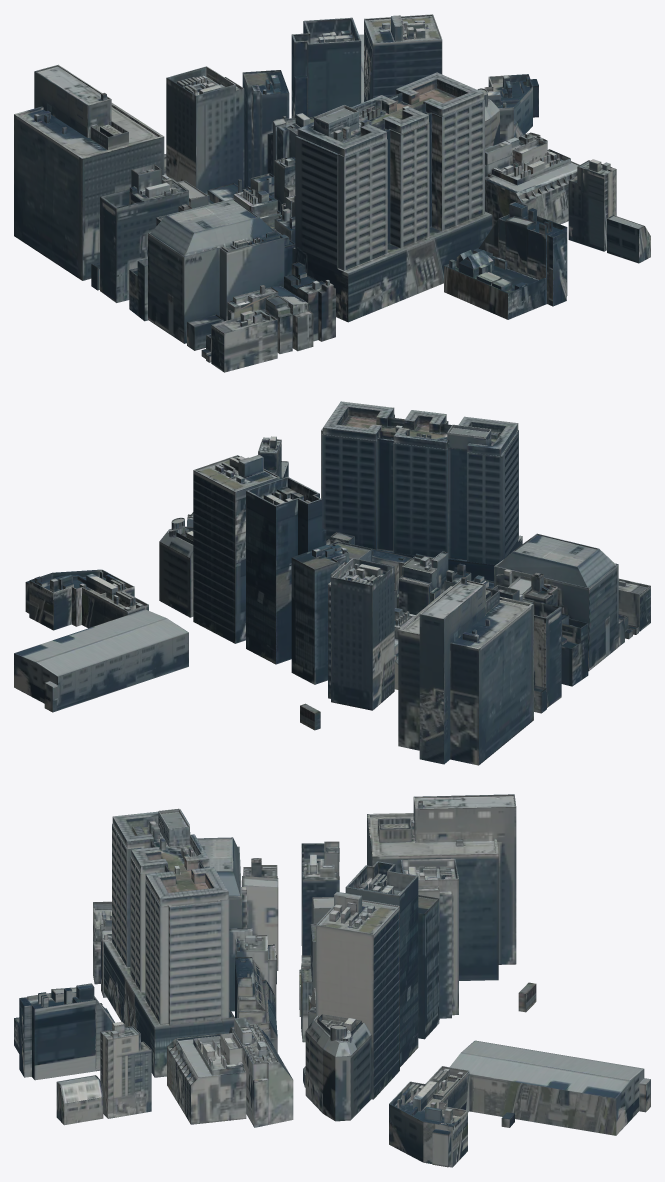
File: building_0_-2.glb
The picture shows the model from 3 angles, top to bottom: view 1: azimuth 30°, elevation 25°; view 2: azimuth 150°, elevation 25°; view 3: azimuth 270°, elevation 25°; orthographic projection. The views are drawn at different scales.
Size of the model in its own units: 197 by 73.74 by 210.
Materials: 2 (1 with a texture image).
